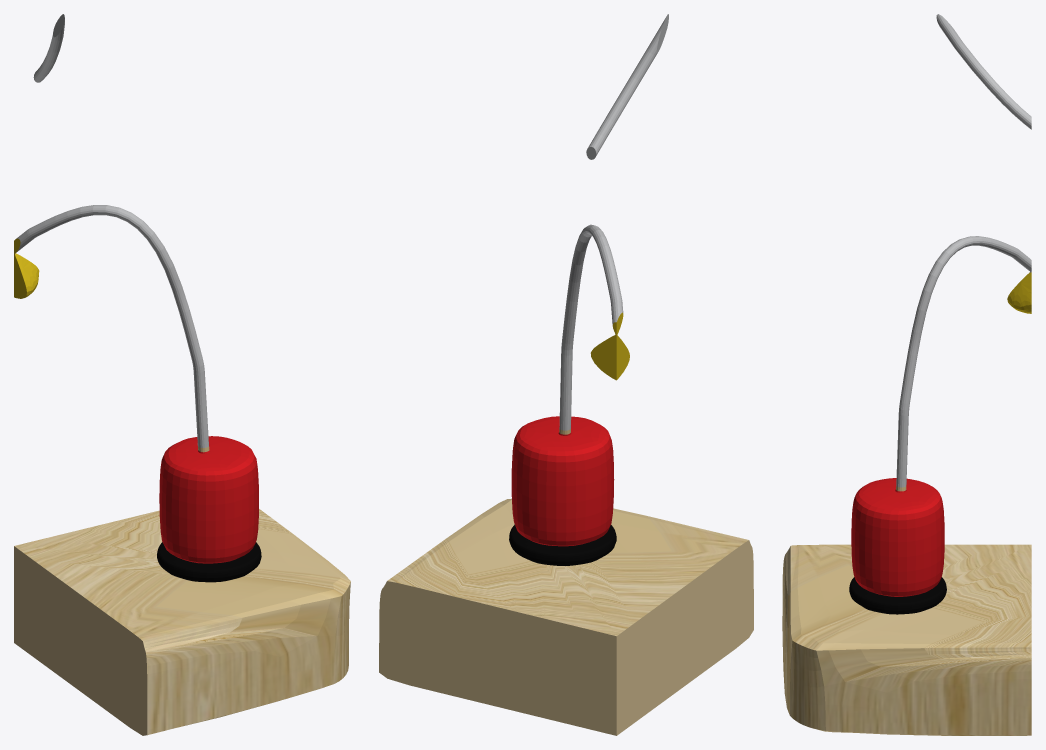
Rendered from 8_Motorikschleife subdiv.fbx.
The picture shows the model from 3 angles, left to right: view 1: azimuth 30°, elevation 25°; view 2: azimuth 150°, elevation 25°; view 3: azimuth 270°, elevation 25°; orthographic projection. The views are drawn at different scales.
Parts seen in each view (by area): view 1: Cube.008; view 2: Cube.008; view 3: Cube.008.
Part boxes in pixels (<box>): Cube.008: <box>14,14,350,735</box>; Cube.008: <box>379,14,753,735</box>; Cube.008: <box>782,14,1031,735</box>.
Bounding box in the file's own units: 499 × 1373 × 499.
